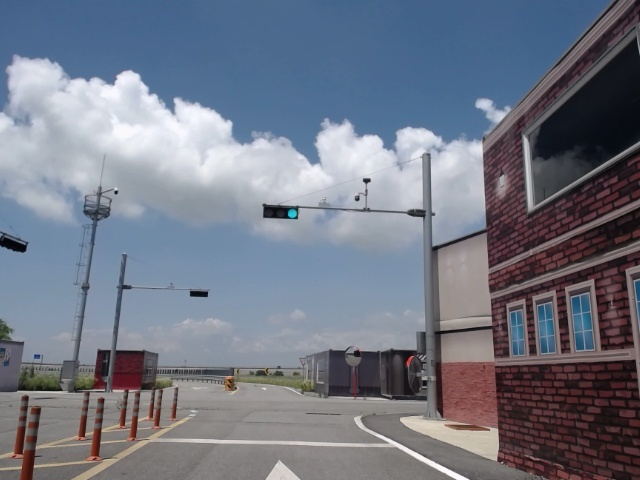green_3: (260, 204, 301, 220)
